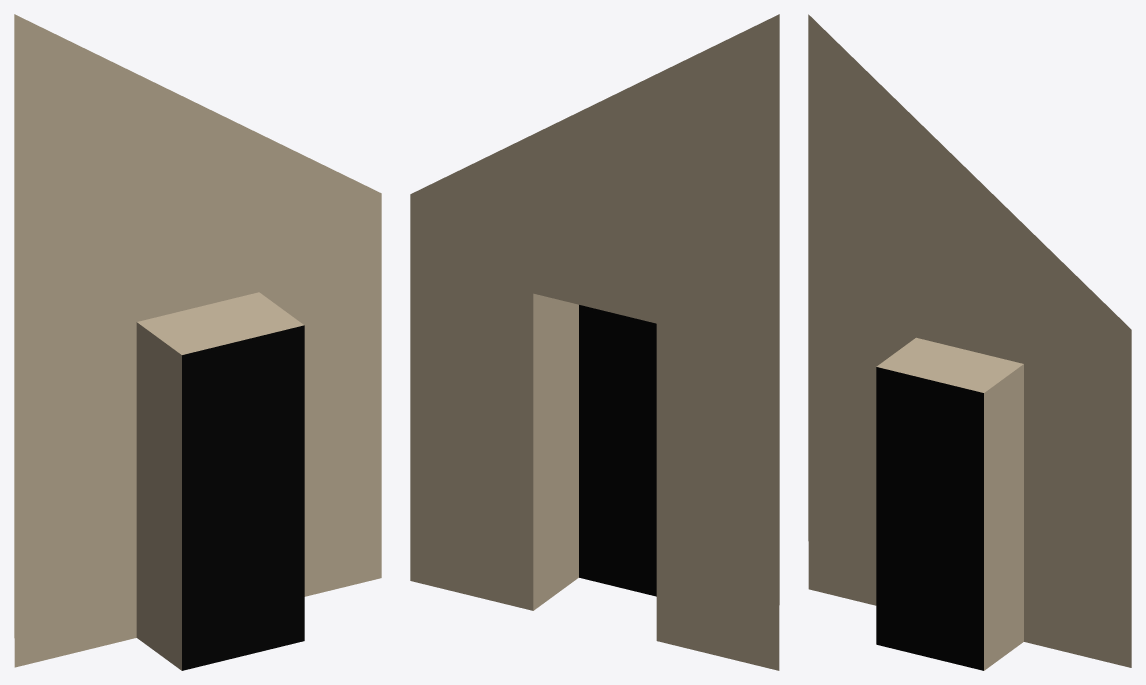
The model's file is tri_door_01.fbx.
3 views of the same model, side by side, from view 1: azimuth 30°, elevation 25°; view 2: azimuth 150°, elevation 25°; view 3: azimuth 330°, elevation 25° (orthographic). The views are drawn at different scales.
Parts seen in each view (by area): view 1: Tri _D_L_Final; view 2: Tri _D_L_Final; view 3: Tri _D_L_Final.
Part boxes in pixels (x1,y1,x2,y2): Tri _D_L_Final: (14,14,381,670); Tri _D_L_Final: (410,14,779,670); Tri _D_L_Final: (808,14,1131,670).
Size of the model in its own units: 100 by 170 by 21.32.
